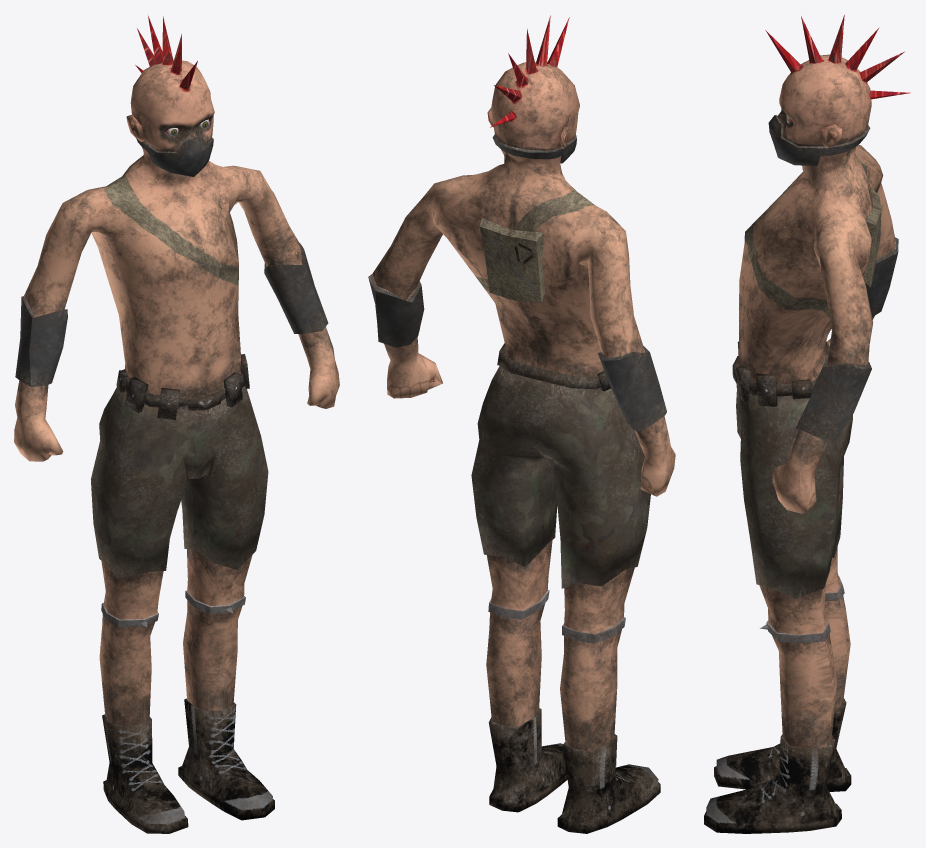
File: Anim_ataque_d1_npc2.0010.obj
3 renders of one model, left to right at view 1: azimuth 30°, elevation 25°; view 2: azimuth 150°, elevation 25°; view 3: azimuth 270°, elevation 25°, orthographic. The views are drawn at different scales.
Visible parts, largest first — view 1: polySurface1; view 2: polySurface1; view 3: polySurface1.
Part boxes in pixels (bbox=[...]): polySurface1: bbox=[14, 14, 339, 833]; polySurface1: bbox=[368, 15, 675, 833]; polySurface1: bbox=[704, 15, 910, 833].
Bounding box in the file's own units: 4.14 × 10.15 × 2.41.
